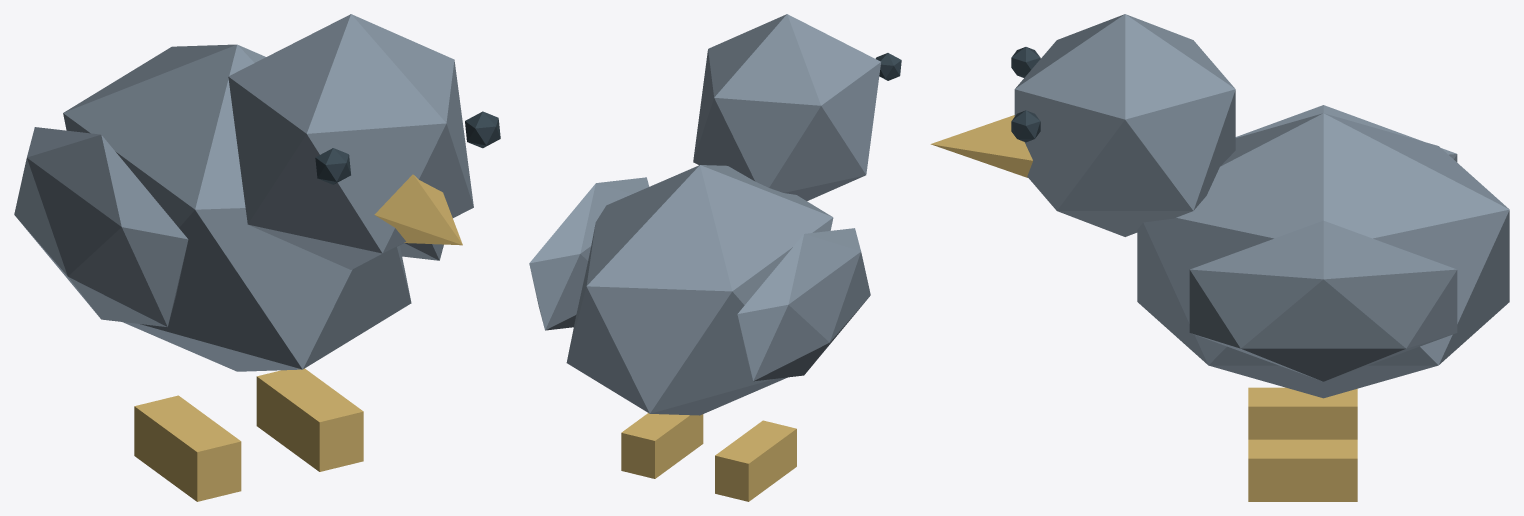
Rendered from pigeon.glb.
3 views of the same model, side by side, from view 1: azimuth 30°, elevation 25°; view 2: azimuth 150°, elevation 25°; view 3: azimuth 270°, elevation 25° (orthographic). The views are drawn at different scales.
Parts seen in each view (by area): view 1: body_bob, head_peck, wing_flutter, foot, foot.001, beak, eye, eye.001, wing_flutter.001; view 2: body_bob, head_peck, wing_flutter, wing_flutter.001, foot, foot.001, eye; view 3: body_bob, head_peck, wing_flutter.001, foot.001, foot, beak, wing_flutter, eye.001, eye.
Boxes of the visible parts, <box> form: body_bob: <box>63,44,411,371</box>; head_peck: <box>228,14,473,269</box>; wing_flutter: <box>14,127,188,326</box>; foot: <box>134,395,241,501</box>; foot.001: <box>256,368,363,471</box>; beak: <box>374,174,462,245</box>; eye: <box>315,148,350,184</box>; eye.001: <box>465,111,500,148</box>; wing_flutter.001: <box>400,243,443,260</box>; body_bob: <box>566,165,833,415</box>; head_peck: <box>693,14,880,200</box>; wing_flutter: <box>737,228,870,381</box>; wing_flutter.001: <box>529,177,649,330</box>; foot: <box>715,420,796,501</box>; foot.001: <box>621,413,703,478</box>; eye: <box>875,53,901,80</box>; body_bob: <box>1137,113,1509,398</box>; head_peck: <box>1014,14,1235,236</box>; wing_flutter.001: <box>1189,220,1457,381</box>; foot.001: <box>1248,439,1357,501</box>; foot: <box>1248,387,1357,439</box>; beak: <box>930,115,1032,177</box>; wing_flutter: <box>1235,105,1457,162</box>; eye.001: <box>1011,110,1040,142</box>; eye: <box>1011,47,1040,77</box>.
Size of the model in its own units: 0.4984 by 0.73 by 0.8472.
